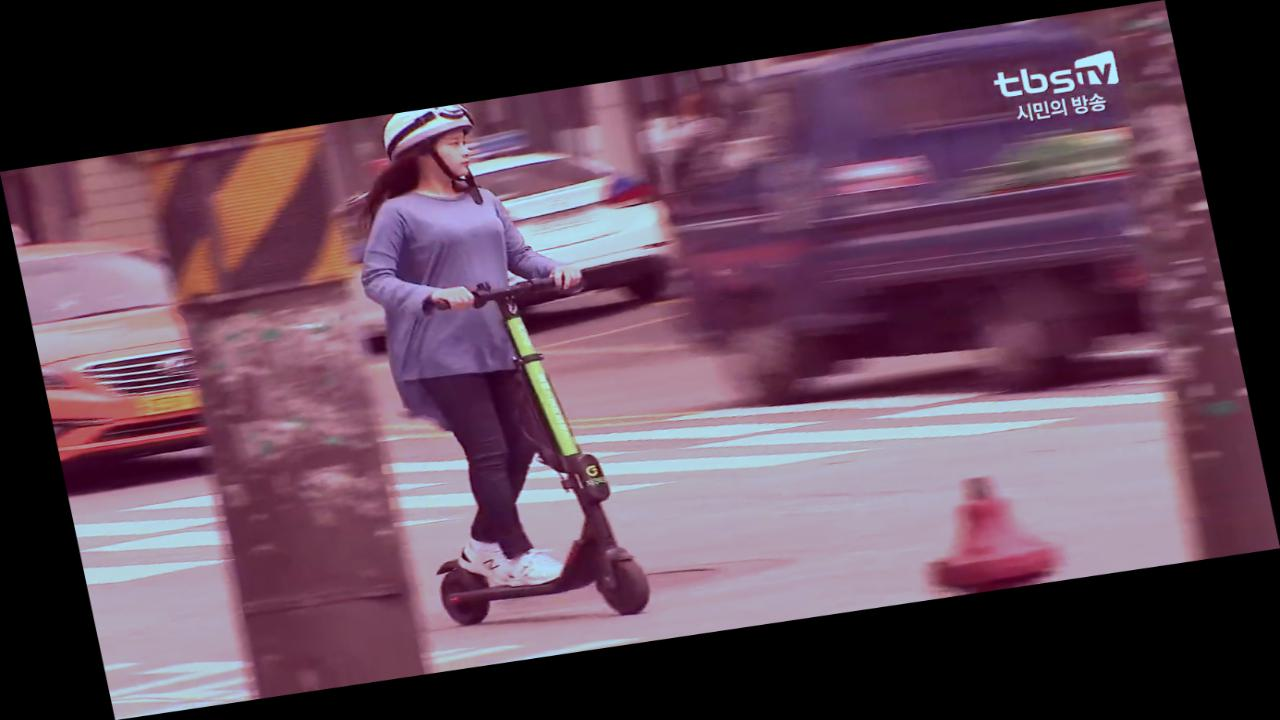helmet: (332, 91, 663, 642)
